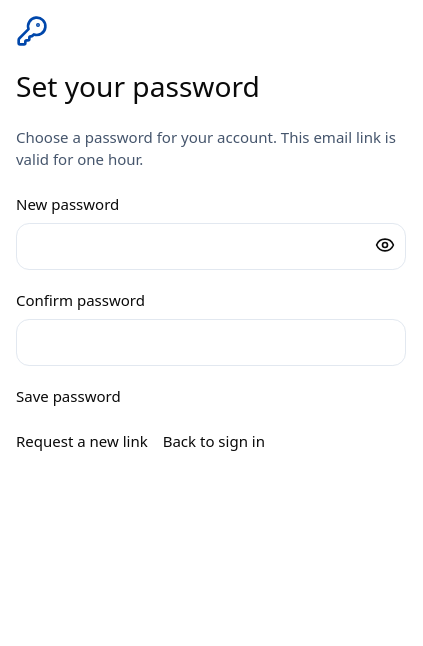
Test: offers a fresh link when native authentication rejects a used link
In the password field labelled "New password": (211, 247) [16,223,406,270], type "Example-password1!"
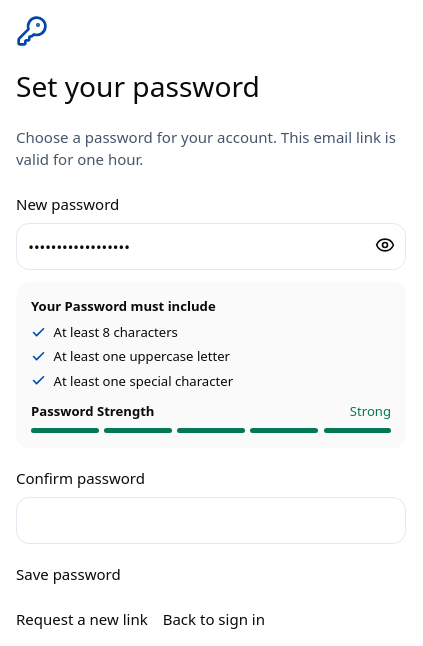
In the password field labelled "Confirm password": (211, 521) [16,497,406,544], type "Example-password1!"
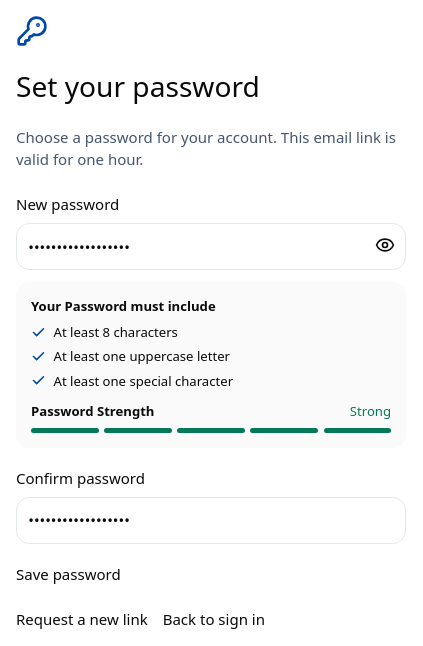
Click the button "Save password": click(68, 574) [16,563,121,585]
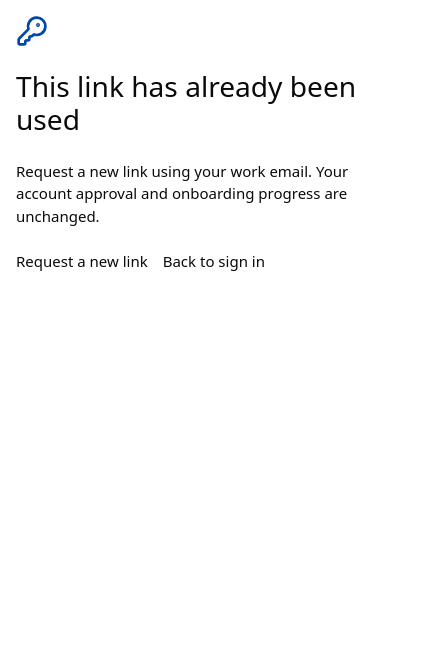
expect the link "Request a new link" is shown: met, box [16,250,148,272]
expect the heading "This link has already been used" is shown: met, box [16,70,406,137]
